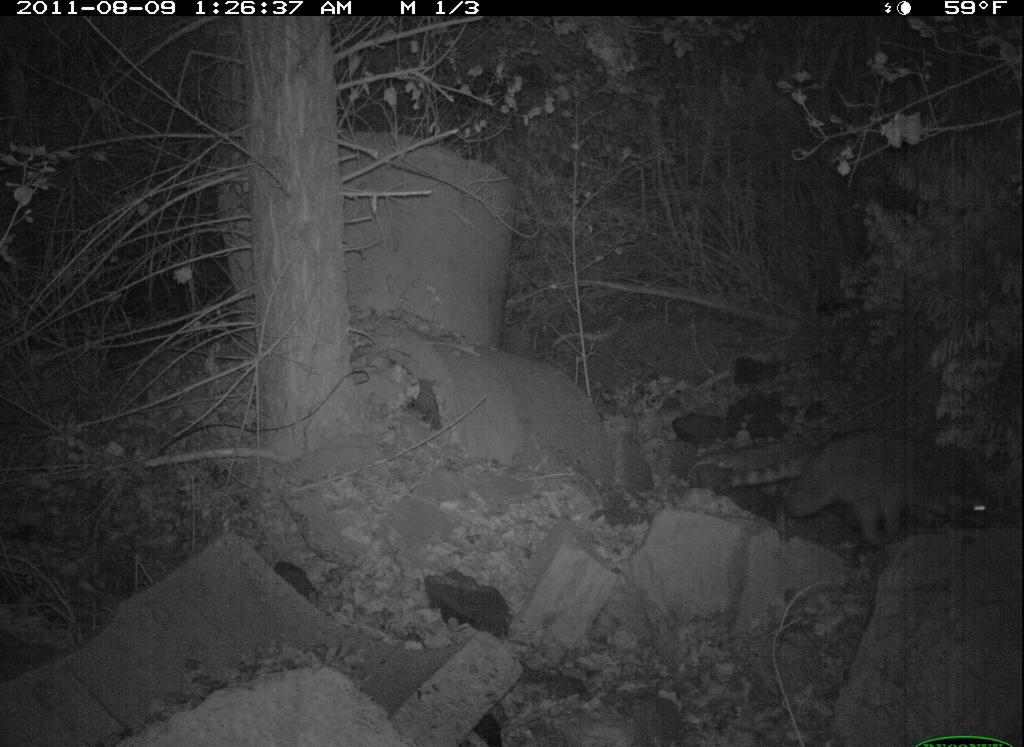raccoon: (711, 419, 1007, 578)
